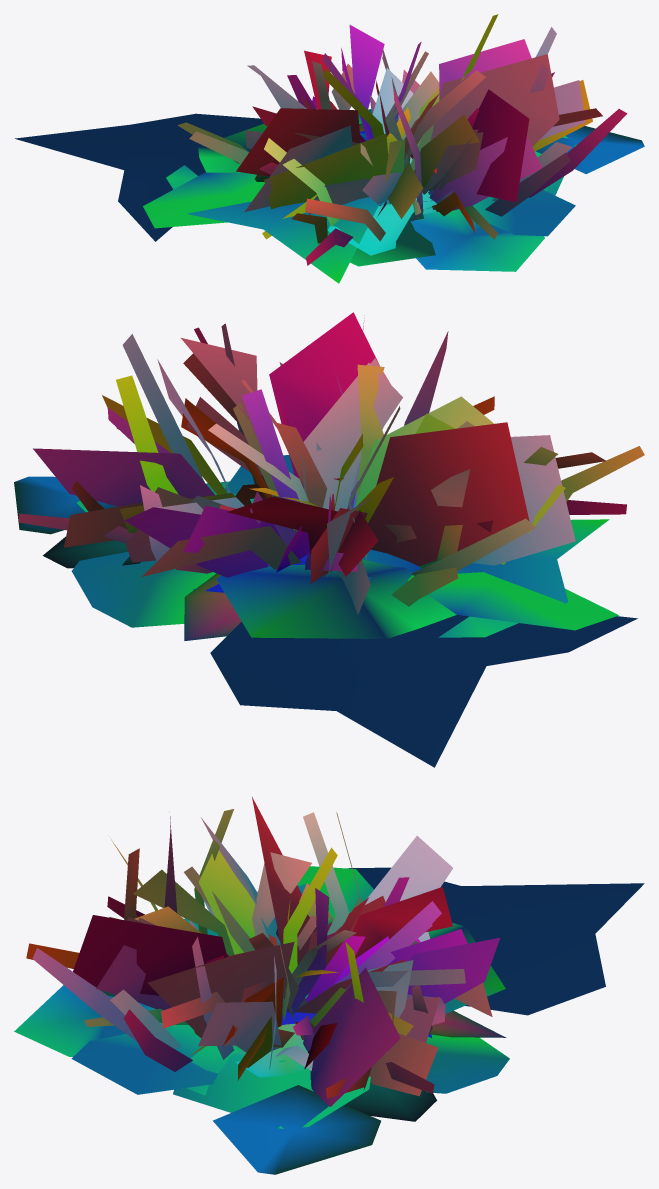
File: Wild_Grass_vdilbaiia_Mid_vdilbaiia_VarF_LOD2.fbx
The picture shows the model from 3 angles, top to bottom: view 1: azimuth 30°, elevation 25°; view 2: azimuth 150°, elevation 25°; view 3: azimuth 270°, elevation 25°; orthographic projection. The views are drawn at different scales.
Visible parts, largest first — view 1: _33qf_VarF_LOD3; view 2: _33qf_VarF_LOD3; view 3: _33qf_VarF_LOD3.
Boxes of the visible parts, <box> form: _33qf_VarF_LOD3: <box>15,14,644,283</box>; _33qf_VarF_LOD3: <box>14,312,644,767</box>; _33qf_VarF_LOD3: <box>14,797,644,1174</box>.
Size of the model in its own units: 78.81 by 26.92 by 73.01.
